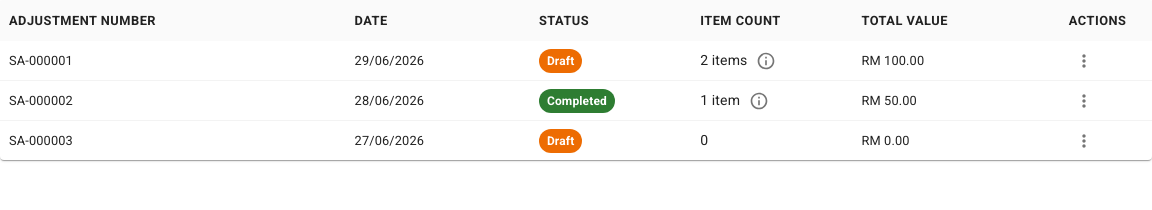
Test: opens popover on icon click and shows product names with signed diffs
Click the button named "show products" next to "2 items" at (766, 60), box left=752, top=46, right=782, bottom=76
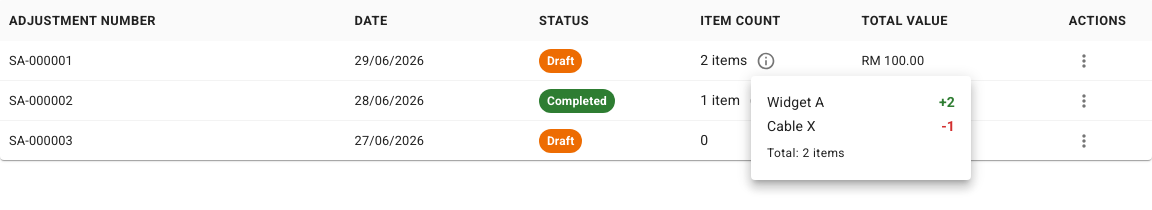
Expected: the text "Widget A" is shown, left=767, top=92, right=824, bottom=112
Expected: the text "Cable X" is shown, left=767, top=116, right=816, bottom=136
Expected: the text "+2" is shown, left=939, top=92, right=955, bottom=112
